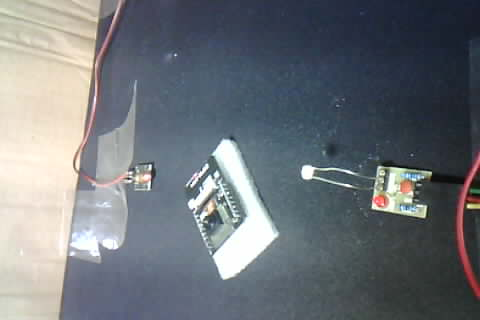esp32: (180, 137, 269, 270)
